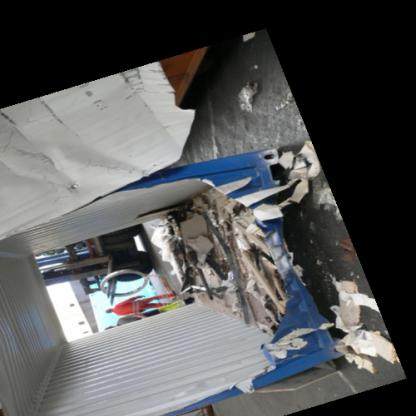Damage: (8, 108, 338, 400)
